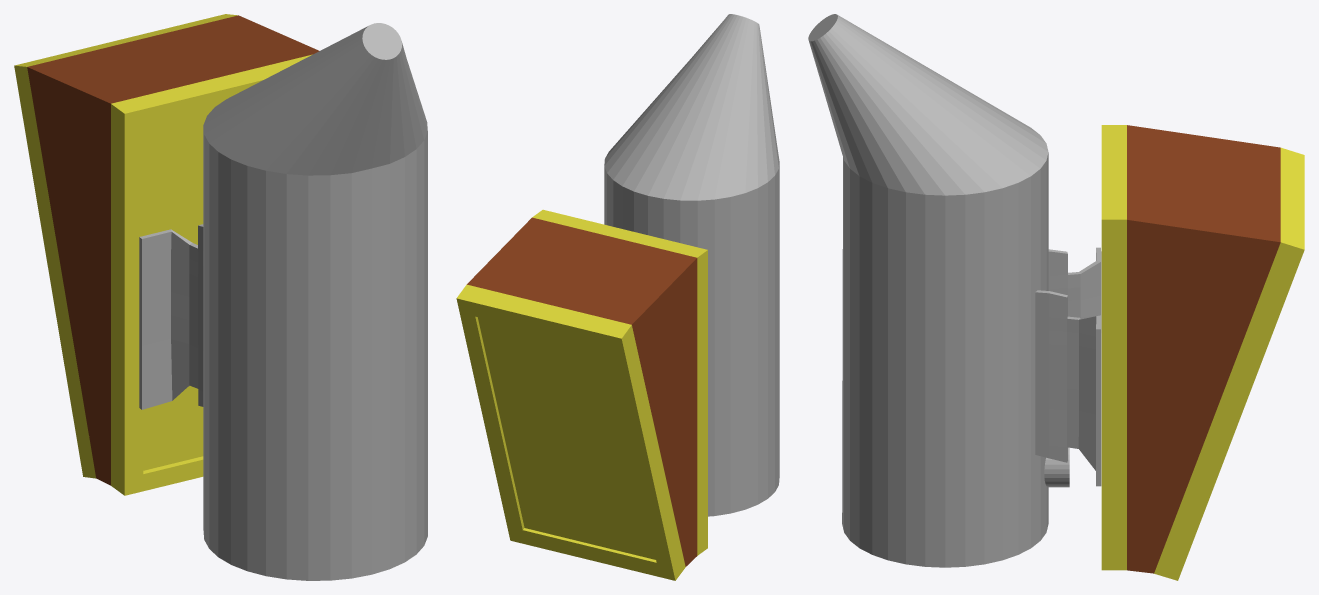
File: Smoker Object Transforms nollade.fbx
The picture shows the model from 3 angles, left to right: view 1: azimuth 30°, elevation 25°; view 2: azimuth 150°, elevation 25°; view 3: azimuth 270°, elevation 25°; orthographic projection. The views are drawn at different scales.
Visible parts, largest first — view 1: Smoker_CYLINDER_mitt; view 2: Smoker_CYLINDER_mitt; view 3: Smoker_CYLINDER_mitt.
Part boxes in pixels (x1,y1,x2,y2): Smoker_CYLINDER_mitt: (14, 14, 427, 580); Smoker_CYLINDER_mitt: (456, 14, 779, 580); Smoker_CYLINDER_mitt: (808, 14, 1304, 580).
Bounding box in the file's own units: 42.21 × 107 × 93.47.
